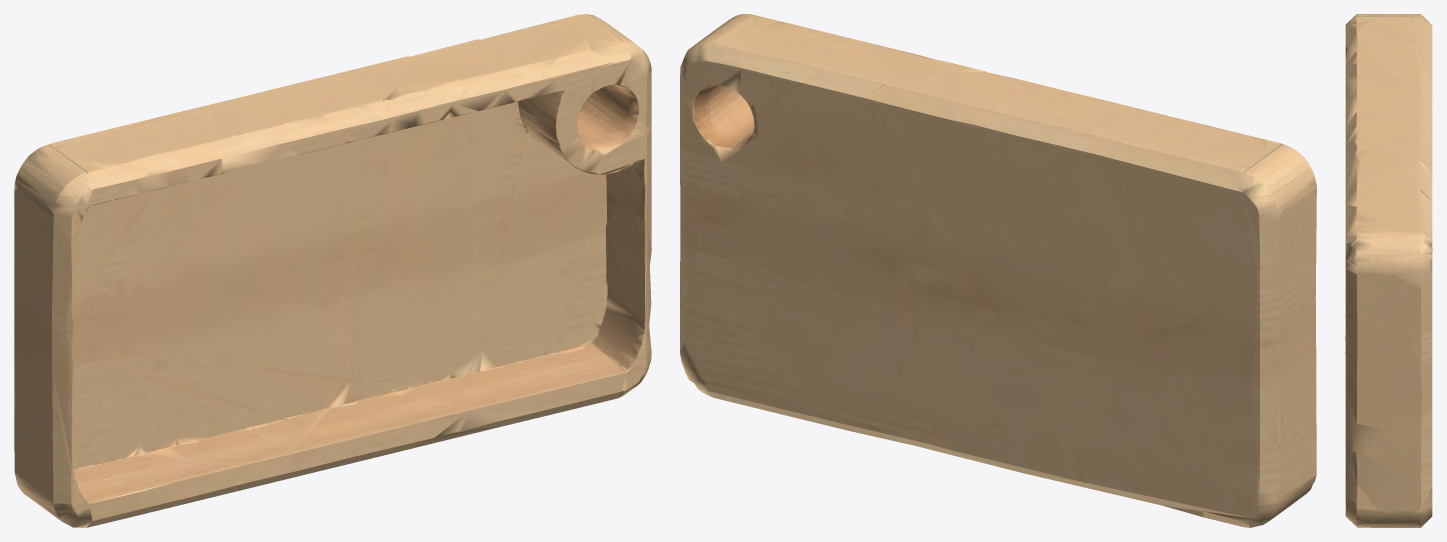
Rendered from board.glb.
3 views of the same model, side by side, from view 1: azimuth 30°, elevation 25°; view 2: azimuth 150°, elevation 25°; view 3: azimuth 270°, elevation 25° (orthographic). The views are drawn at different scales.
Bounding box in the file's own units: 1.9 × 1.08 × 0.2893.
Materials: 1 (1 with a texture image).
